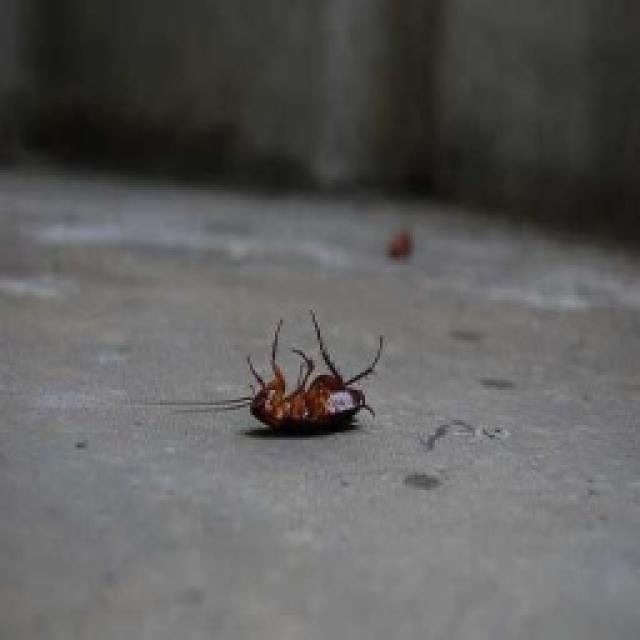cockroach: (237, 305, 391, 440)
